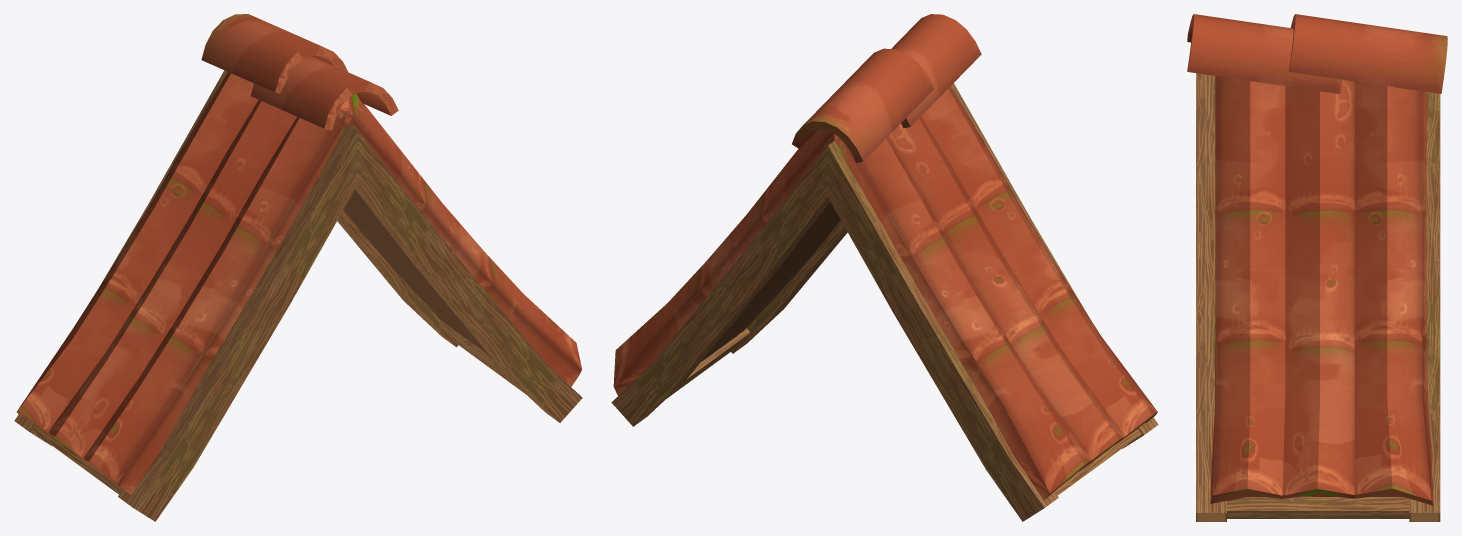
File: Roof_RoundTile_2x1_Long.gltf
The picture shows the model from 3 angles, left to right: view 1: azimuth 30°, elevation 25°; view 2: azimuth 150°, elevation 25°; view 3: azimuth 270°, elevation 25°; orthographic projection. The views are drawn at different scales.
Visible parts, largest first — view 1: Roof_RoundTile_2x1_Long; view 2: Roof_RoundTile_2x1_Long; view 3: Roof_RoundTile_2x1_Long.
Boxes of the visible parts, box(x1,y1,x2,y2) form: Roof_RoundTile_2x1_Long: box(14, 14, 582, 521); Roof_RoundTile_2x1_Long: box(611, 14, 1158, 521); Roof_RoundTile_2x1_Long: box(1187, 14, 1447, 521).
Bounding box in the file's own units: 4.35 × 3.33 × 1.95.
2 materials, 2 textured.
